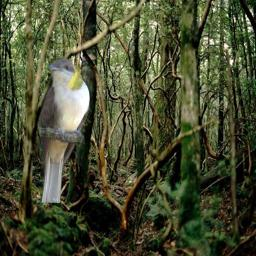Cuckoo: (37, 58, 90, 203)
